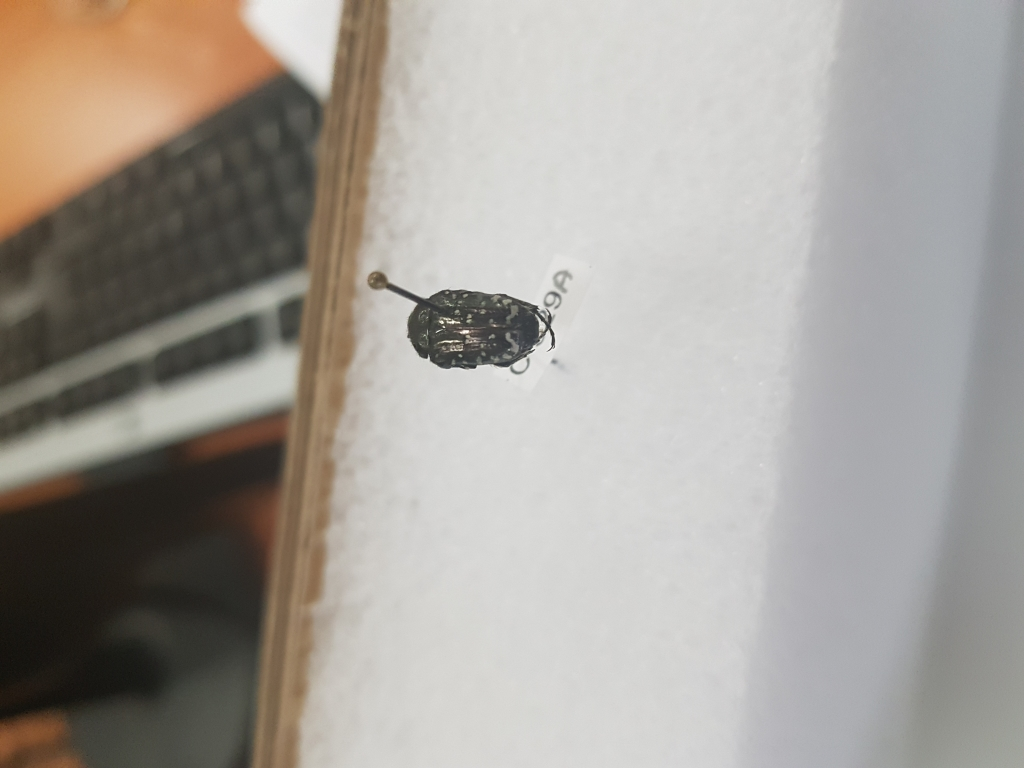Oxythyrea_funesta: (405, 283, 562, 372)
